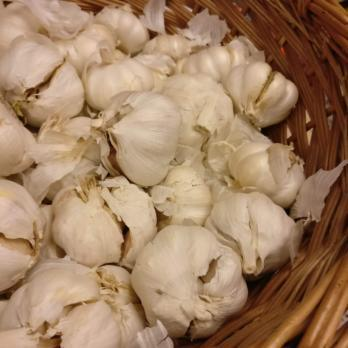Garlic: (1, 0, 304, 348)
